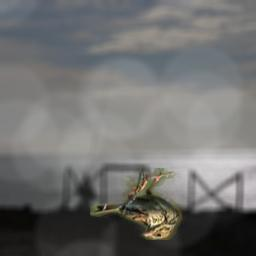Sparrow: (90, 168, 185, 240)
